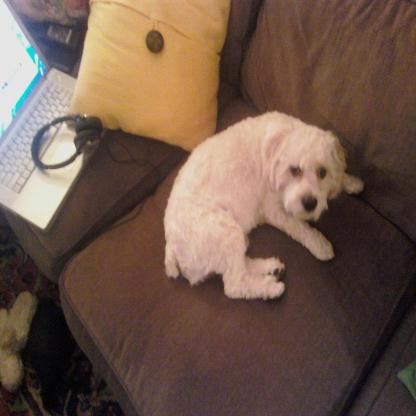board: (0, 0, 105, 233)
